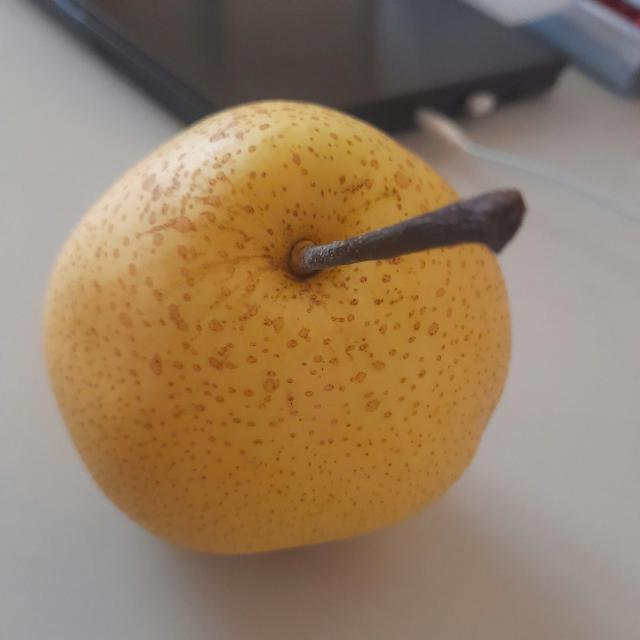Le: (36, 84, 540, 564)
